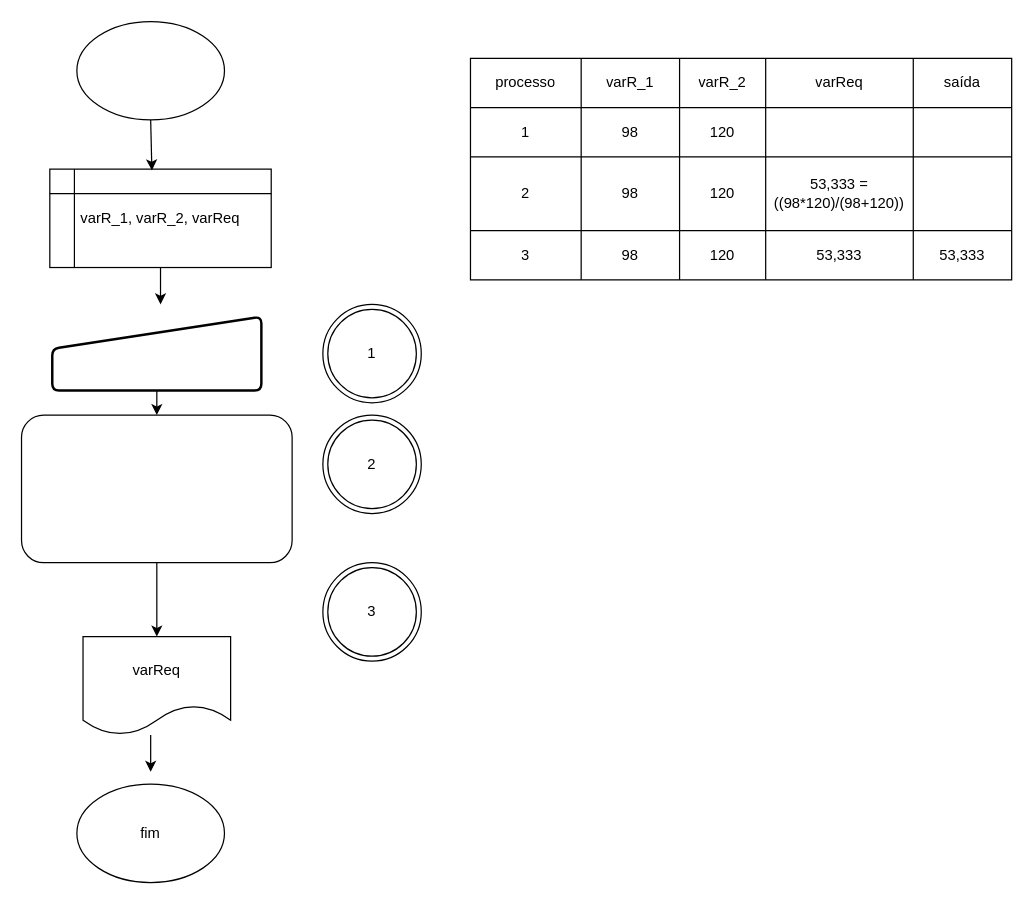
This 1033x904 diagram has some shape labels left out. The shapes that lost their labels are listed below. From the top down, each one's centre as x and y in pixels, then its label:
At [150,70]: "início".
At [156,353]: "varR_1, varR_2".
At [156,488]: "varReq = ((varR_1 * varR_2) / (var_R1 + var_R2))".
